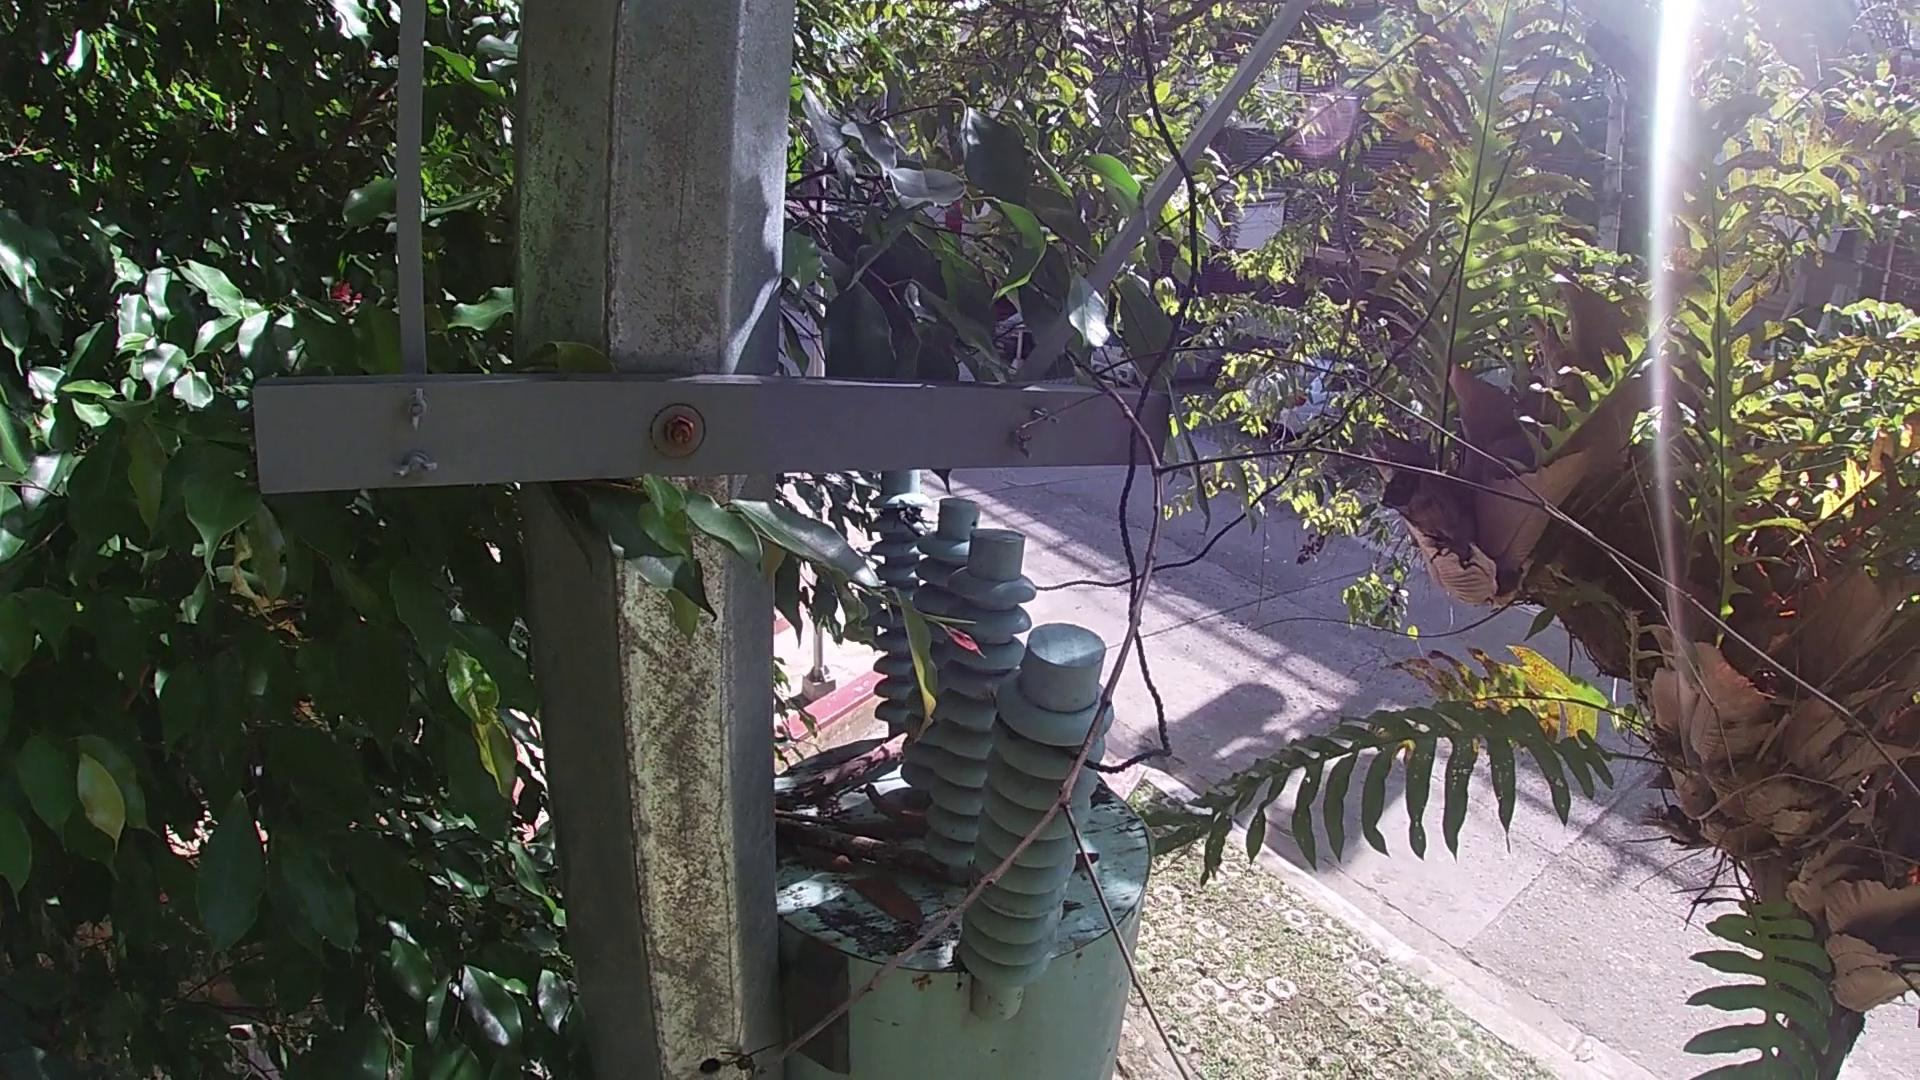leaf: (837, 876, 928, 939), (793, 844, 855, 876), (1072, 848, 1098, 876)
tree branch: (748, 340, 1920, 1076), (777, 814, 971, 887), (803, 731, 913, 806)
